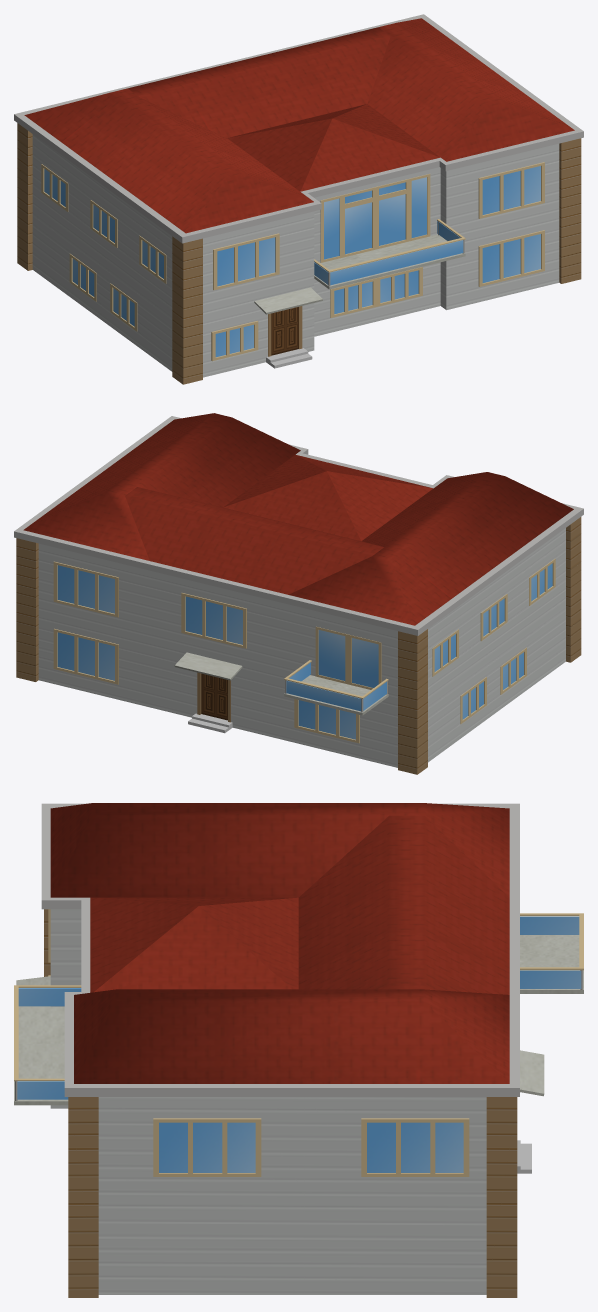
File: House_009.fbx
3 renders of one model, top to bottom at view 1: azimuth 30°, elevation 25°; view 2: azimuth 150°, elevation 25°; view 3: azimuth 270°, elevation 25°, orthographic. The views are drawn at different scales.
Parts seen in each view (by area): view 1: House09, Glasses, Door_01; view 2: House09, Glasses, Door_02; view 3: House09, Glasses.
Boxes of the visible parts, left/top/right/bottom form: House09: left=14, top=14, right=583, bottom=384; Glasses: left=44, top=166, right=540, bottom=357; Door_01: left=271, top=307, right=298, bottom=355; House09: left=14, top=413, right=583, bottom=774; Glasses: left=57, top=563, right=552, bottom=739; Door_02: left=201, top=673, right=227, bottom=720; House09: left=14, top=803, right=583, bottom=1297; Glasses: left=17, top=916, right=581, bottom=1172.
Bounding box in the file's own units: 100 × 41.86 × 84.9.
